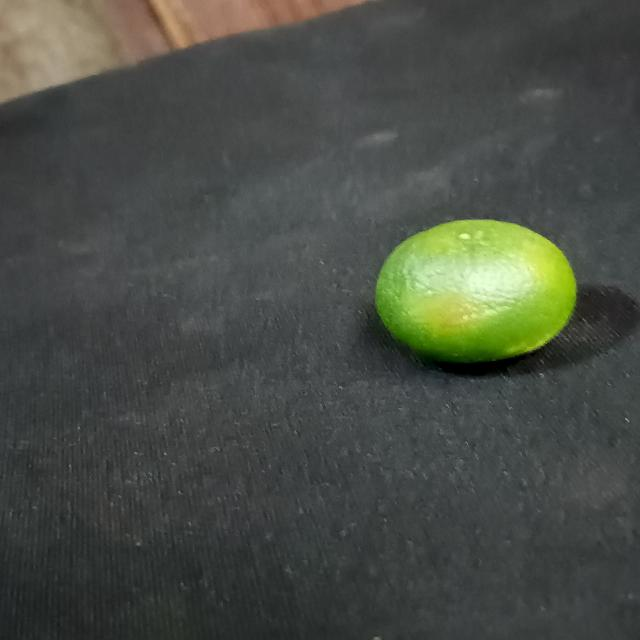heathy: (368, 218, 582, 364)
